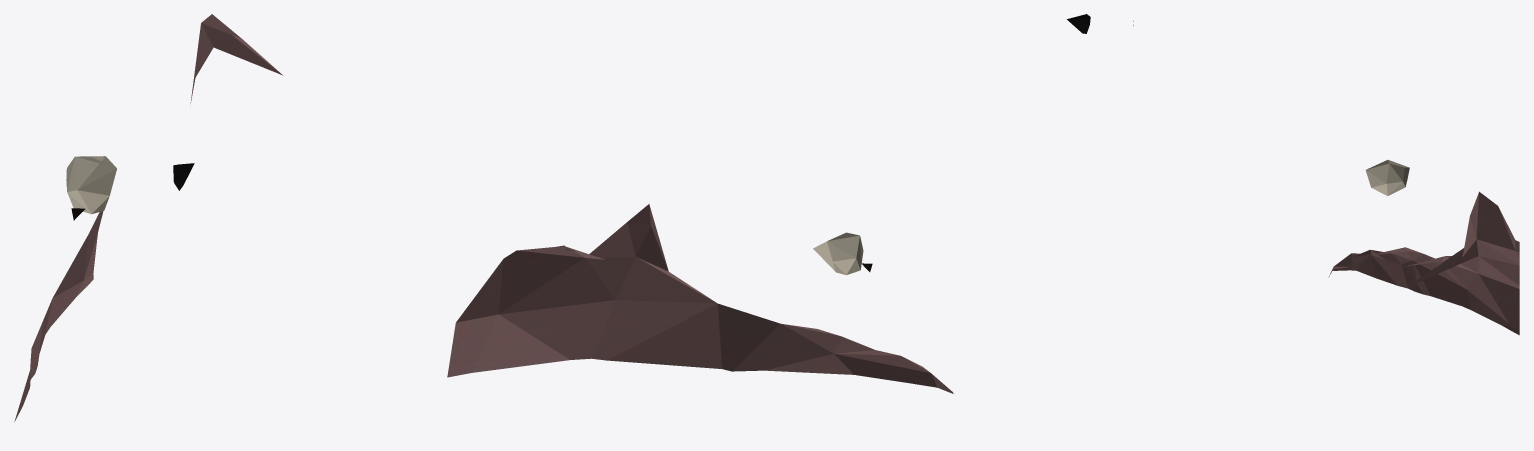
3 views of the same model, side by side, from view 1: azimuth 30°, elevation 25°; view 2: azimuth 150°, elevation 25°; view 3: azimuth 270°, elevation 25° (orthographic). The views are drawn at different scales.
Bounding box in the file's own units: 0.4184 × 0.2882 × 0.4143.
Materials: 1 (1 with a texture image).
